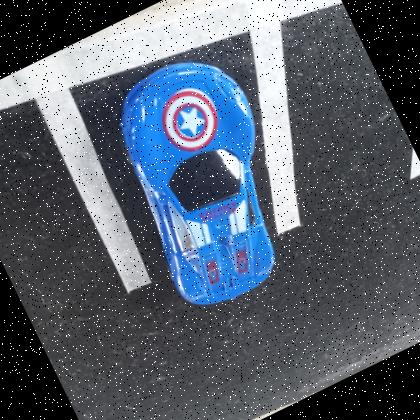Car: (119, 59, 274, 304)
